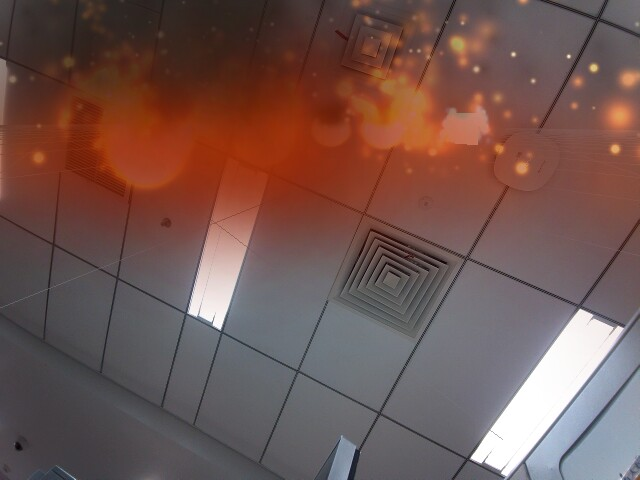fire: (102, 101, 193, 187), (310, 106, 352, 149)
